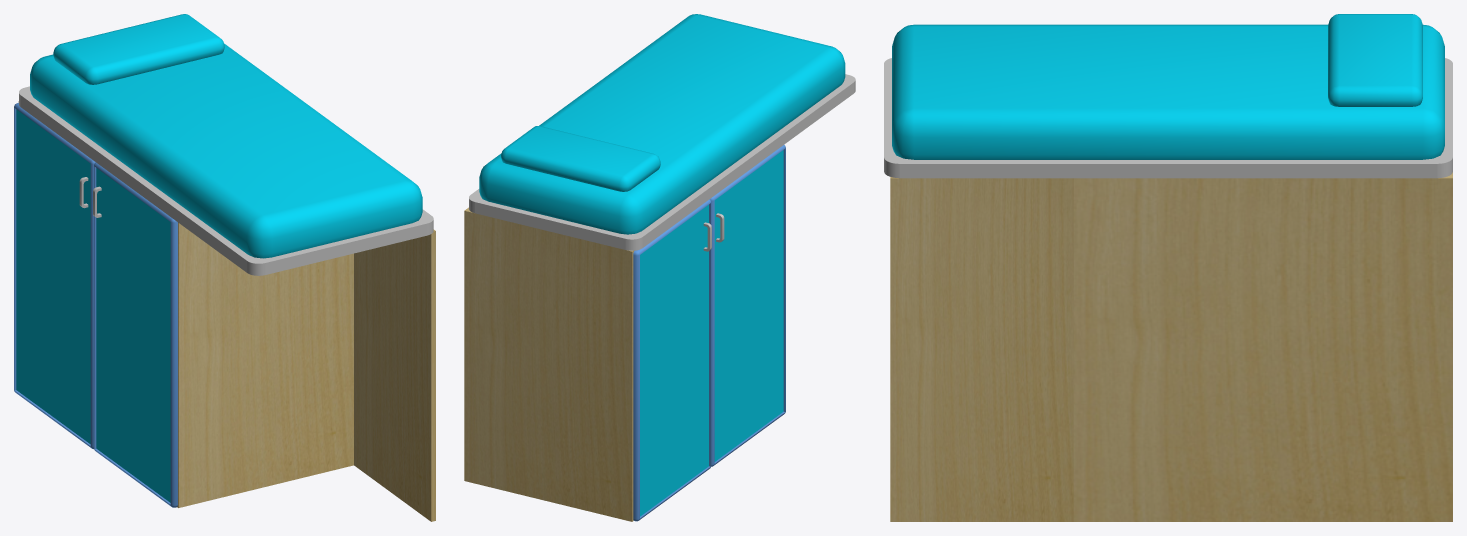
File: sweethome3d-lucapresidente-blue-loft-bed.glb
3 views of the same model, side by side, from view 1: azimuth 30°, elevation 25°; view 2: azimuth 150°, elevation 25°; view 3: azimuth 270°, elevation 25° (orthographic). The views are drawn at different scales.
Parts seen in each view (by area): view 1: ChamferBox13_4, Box15_1, Box28_10, Box27_7, Box16_2, Rectangle01_3, ChamferBox14_5, ChamferBox25_11, ChamferBox24_6; view 2: Box15_1, ChamferBox13_4, Box28_10, Box27_7, Rectangle01_3, ChamferBox14_5, ChamferBox24_6, ChamferBox25_11; view 3: Box15_1, ChamferBox13_4, Box16_2, Rectangle01_3, ChamferBox14_5.
Part boxes in pixels (x1,y1,x2,y2): ChamferBox13_4: (30,43,422,258); Box15_1: (18,101,353,507); Box28_10: (96,168,170,502); Box27_7: (16,109,90,443); Box16_2: (354,229,435,521); Rectangle01_3: (19,86,433,275); ChamferBox14_5: (53,14,224,84); ChamferBox25_11: (94,162,177,507); ChamferBox24_6: (14,103,95,449); Box15_1: (464,207,634,521); ChamferBox13_4: (479,14,845,234); Box28_10: (714,150,783,461); Box27_7: (640,205,708,516); Rectangle01_3: (469,74,855,250); ChamferBox14_5: (501,126,660,191); ChamferBox24_6: (633,199,711,521); ChamferBox25_11: (710,145,785,466); Box15_1: (1073,172,1452,521); ChamferBox13_4: (892,24,1444,159); Box16_2: (890,177,1073,521); Rectangle01_3: (884,58,1452,178); ChamferBox14_5: (1328,14,1422,106).
Bounding box in the file's own units: 82.87 × 146 × 180.
Materials: 5 (1 with a texture image).
